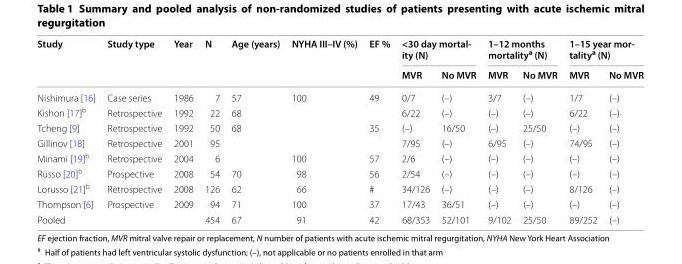table: (36, 36, 642, 224)
table column: (285, 36, 362, 224), (100, 36, 167, 224), (36, 36, 100, 224), (224, 36, 285, 224), (435, 36, 481, 224), (516, 36, 562, 224), (395, 36, 435, 224), (562, 36, 602, 224), (602, 36, 642, 224), (481, 36, 516, 224), (362, 36, 395, 224), (167, 36, 198, 224), (198, 36, 224, 224)
table column header: (36, 36, 642, 85)
table row: (36, 36, 642, 64), (36, 64, 642, 85), (36, 85, 642, 104), (36, 104, 642, 120), (36, 149, 642, 165), (36, 180, 642, 196), (36, 120, 642, 135), (36, 165, 642, 180), (36, 196, 642, 211), (36, 135, 642, 149), (36, 211, 642, 224)
table spanning cell: (285, 36, 362, 85), (100, 36, 167, 85), (36, 36, 100, 85), (224, 36, 285, 85), (395, 36, 481, 64), (481, 36, 562, 64), (562, 36, 642, 64), (362, 36, 395, 85), (167, 36, 198, 85), (198, 36, 224, 85)
